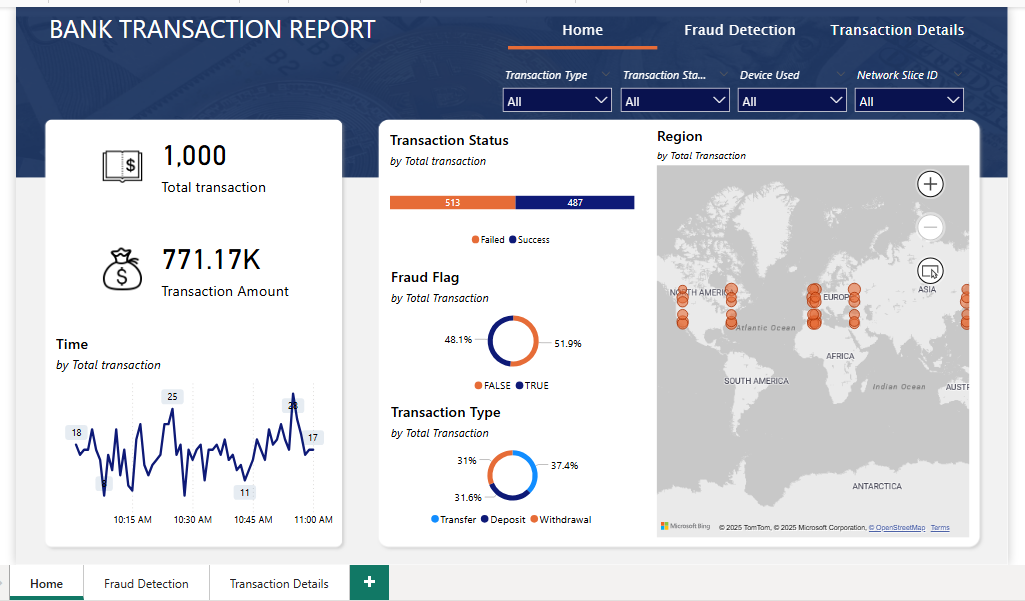

The page's visual inventory and layout, read from the dashboard file:
{"tool":"powerbi","page":{"name":"Home","canvas":[1280,720],"ordinal":0},"visuals":[{"type":"cardVisual","fields":{"Data":["bank transaction_data.Total transaction"]},"box":[90,152.9,300,108.6],"z":0},{"type":"cardVisual","fields":{"Data":["bank transaction_data.Total Transaction Amount"]},"box":[90,275.7,300,130],"z":1000},{"type":"lineChart","title":"Time","fields":{"Category":["bank transaction_data.Time"],"Y":["bank transaction_data.Total transaction"]},"box":[47.1,421,368.2,259.7],"z":2000},{"type":"barChart","title":"Transaction Status","fields":{"Y":["bank transaction_data.Total transaction"],"Series":["bank transaction_data.Transaction Status"]},"box":[477.1,157.1,325.7,161.4],"z":3000},{"type":"donutChart","title":"Fraud Flag","fields":{"Y":["bank transaction_data.Total transaction"],"Category":["bank transaction_data.Fraud Flag"]},"box":[478.6,334.3,325.7,172.9],"z":4000},{"type":"donutChart","title":"Transaction Type","fields":{"Y":["bank transaction_data.Total transaction"],"Category":["bank transaction_data.Transaction Type"]},"box":[478.6,508.6,324.3,171.4],"z":5000},{"type":"map","title":"Region","fields":{"Size":["bank transaction_data.Total transaction"],"Y":["bank transaction_data.Latitude Value"],"X":["bank transaction_data.Longitude Value"]},"box":[821.4,152.9,412.9,537.1],"z":6000},{"type":"slicer","fields":{"Values":["bank transaction_data.Network Slice ID"]},"box":[1072.9,72.9,161.4,70],"z":7000},{"type":"slicer","fields":{"Values":["bank transaction_data.Device Used"]},"box":[921.4,72.9,161.4,70],"z":8000},{"type":"slicer","fields":{"Values":["bank transaction_data.Transaction Status"]},"box":[770,72.9,161.4,70],"z":9000},{"type":"slicer","fields":{"Values":["bank transaction_data.Transaction Type"]},"box":[618.6,72.9,161.4,70],"z":10000},{"type":"textbox","box":[37.1,0,440.9,72.8],"z":11000},{"type":"pageNavigator","box":[634.3,5.7,600,50],"z":12000}]}

Visuals, with their boxes on the page's 1280x720 design canvas (x1, y1, x2, y2). These are canvas units, not pixel positions in the 1025x601 screenshot, which may show the page scaled, cropped or inside an application window:
cardVisual - bank transaction_data.Total transaction: <region>90, 153, 390, 262</region>
cardVisual - bank transaction_data.Total Transaction Amount: <region>90, 276, 390, 406</region>
"Time" lineChart: <region>47, 421, 415, 681</region>
"Transaction Status" barChart: <region>477, 157, 803, 318</region>
"Fraud Flag" donutChart: <region>479, 334, 804, 507</region>
"Transaction Type" donutChart: <region>479, 509, 803, 680</region>
"Region" map: <region>821, 153, 1234, 690</region>
slicer - bank transaction_data.Network Slice ID: <region>1073, 73, 1234, 143</region>
slicer - bank transaction_data.Device Used: <region>921, 73, 1083, 143</region>
slicer - bank transaction_data.Transaction Status: <region>770, 73, 931, 143</region>
slicer - bank transaction_data.Transaction Type: <region>619, 73, 780, 143</region>
textbox: <region>37, 0, 478, 73</region>
pageNavigator: <region>634, 6, 1234, 56</region>
